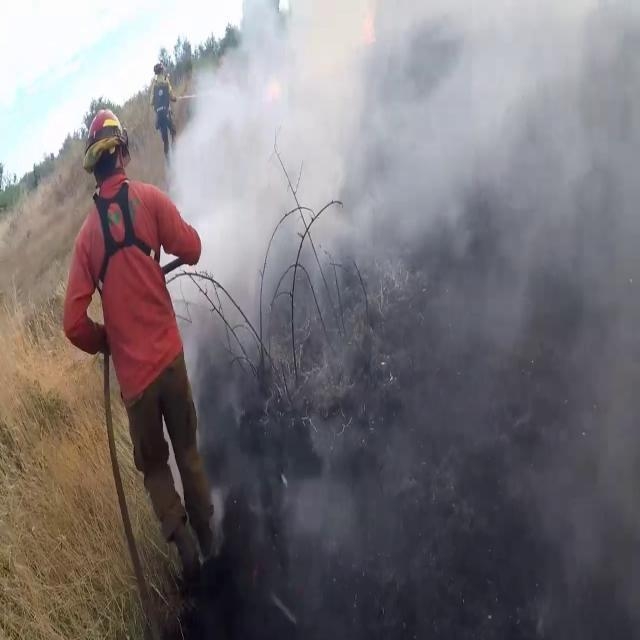Smoke: (163, 0, 640, 538)
